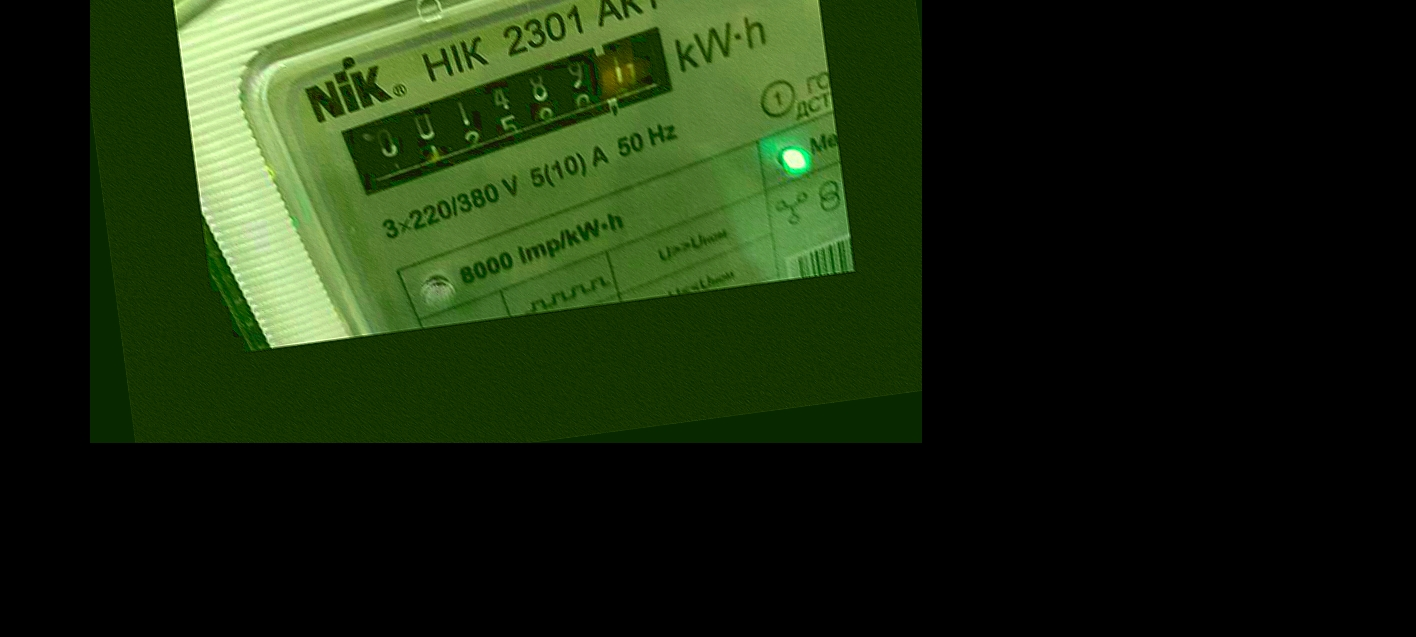0: (409, 104, 439, 143), (373, 123, 401, 161)
1: (606, 46, 630, 87), (452, 95, 476, 128)
4: (488, 80, 514, 113)
8: (527, 67, 552, 105)
9: (565, 56, 589, 90)
screen: (321, 11, 712, 210)
